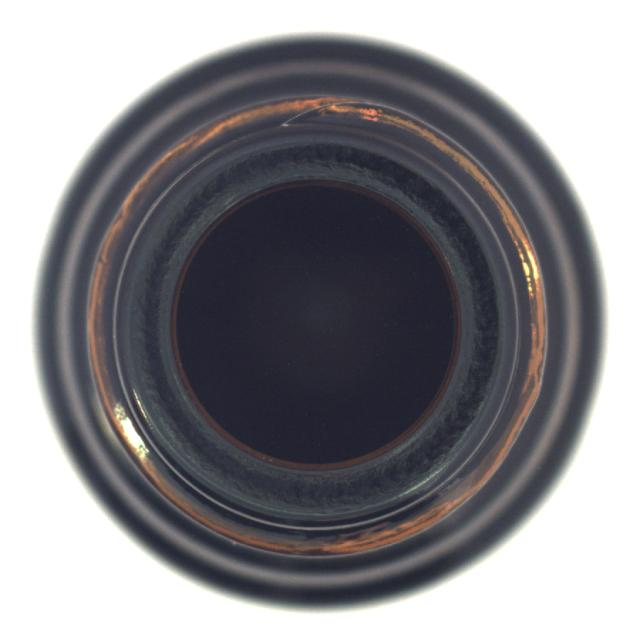bottle-good: (31, 33, 594, 608)
